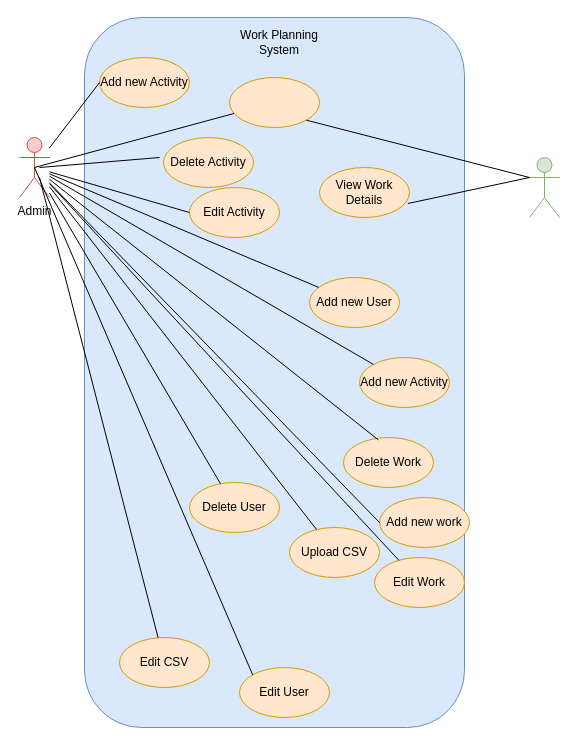
Some shapes in this 577 by 745 pixel diagram are drawn without their labels. Here are the shapes that lost their labels. From the top down, the centre of each, then its label:
At (274,102): "Login".
At (544,187): "User".
